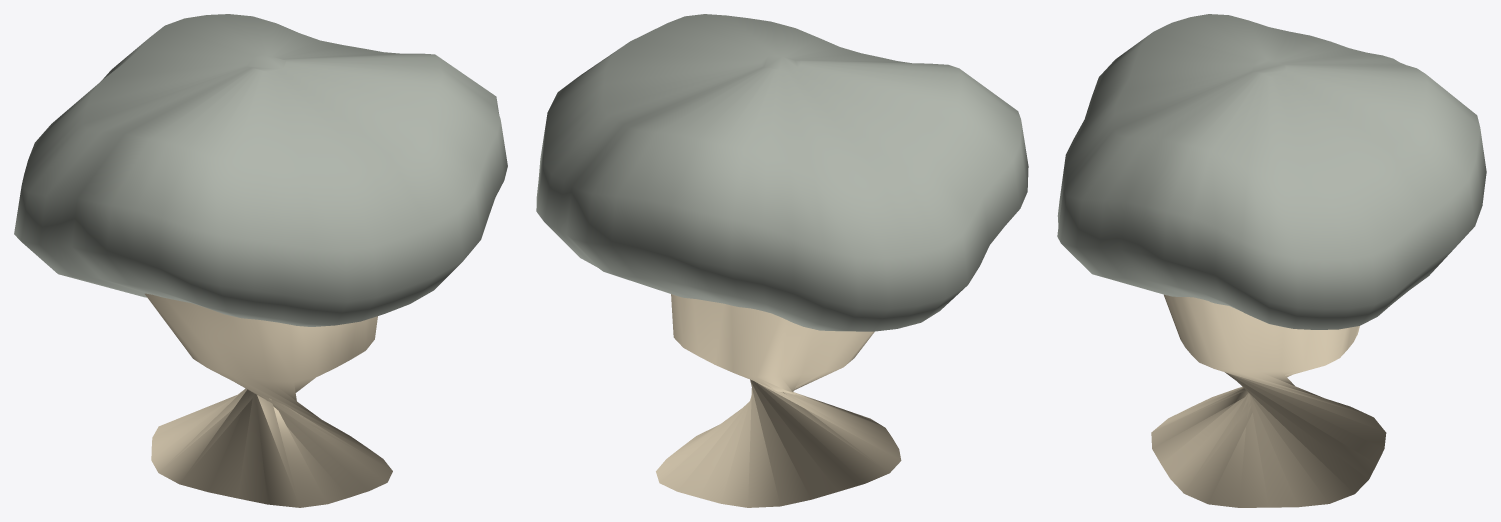
The model's file is hero-boulder-2.glb.
3 renders of one model, left to right at view 1: azimuth 30°, elevation 25°; view 2: azimuth 150°, elevation 25°; view 3: azimuth 270°, elevation 25°, orthographic. The views are drawn at different scales.
Parts seen in each view (by area): view 1: Undercut weathered stone cap.002, Eroded limestone pedestal.002; view 2: Undercut weathered stone cap.002, Eroded limestone pedestal.002; view 3: Undercut weathered stone cap.002, Eroded limestone pedestal.002.
Boxes of the visible parts, bbox=[...] form: Undercut weathered stone cap.002: bbox=[14, 14, 507, 326]; Eroded limestone pedestal.002: bbox=[145, 293, 392, 507]; Undercut weathered stone cap.002: bbox=[536, 14, 1028, 331]; Eroded limestone pedestal.002: bbox=[656, 294, 901, 507]; Undercut weathered stone cap.002: bbox=[1057, 14, 1486, 329]; Eroded limestone pedestal.002: bbox=[1151, 294, 1386, 507].
Bounding box in the file's own units: 0.1029 × 0.0902 × 0.089.
